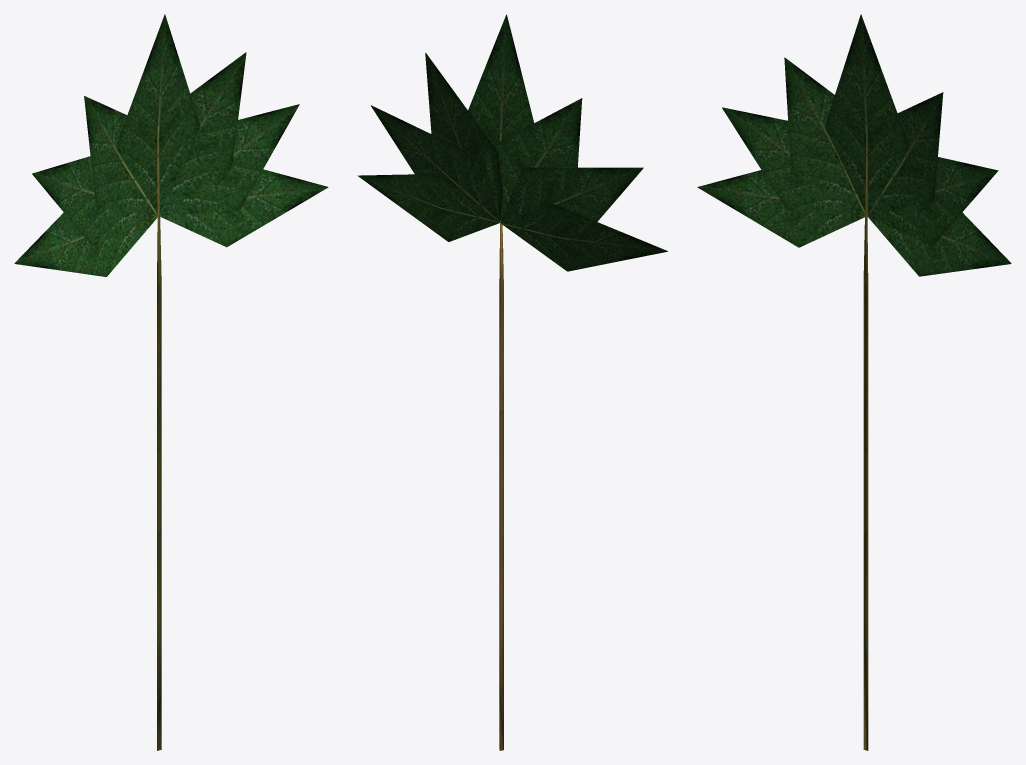
The model's file is eqp_palm_frond_l2.fbx.
3 renders of one model, left to right at view 1: azimuth 30°, elevation 25°; view 2: azimuth 150°, elevation 25°; view 3: azimuth 330°, elevation 25°, orthographic.
Visible parts, largest first — view 1: mesh_node; view 2: mesh_node; view 3: mesh_node.
Part boxes in pixels (bbox=[...]): mesh_node: bbox=[14, 14, 328, 750]; mesh_node: bbox=[357, 14, 667, 750]; mesh_node: bbox=[697, 14, 1011, 750].
Bounding box in the file's own units: 1.18 × 2.66 × 0.1503.
Materials: 1 (1 with a texture image).
